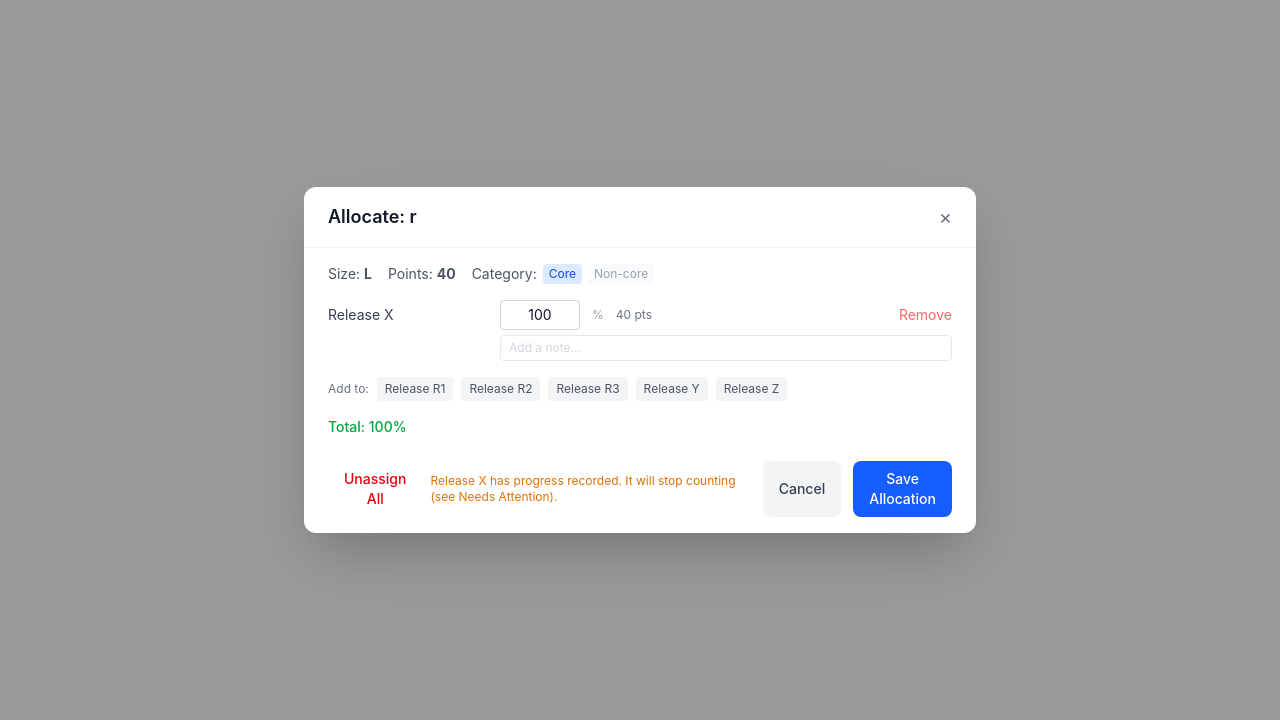
it: AllocationModal says what Save would do › says progress moves when the rib brings positive records
Expected: the text "Progress moves" is not shown
Click the button "Remove" at [925, 315], box [899,305,952,325]
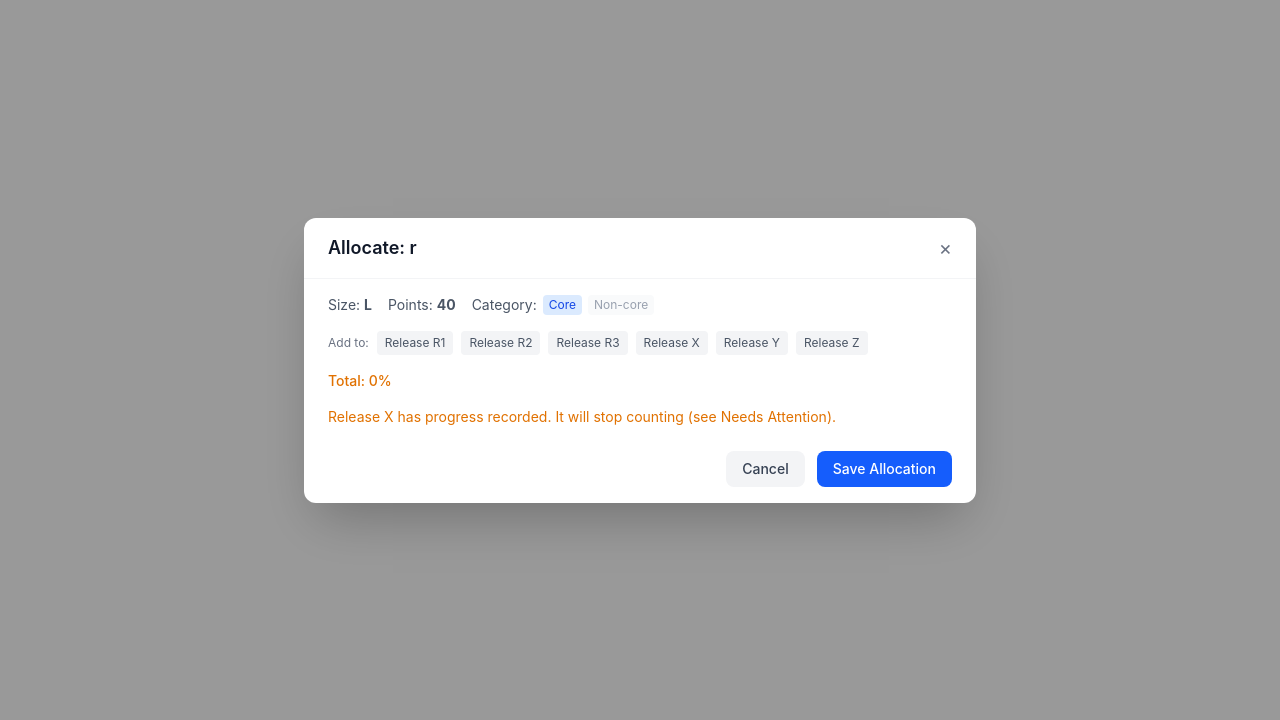
Click the button "Release Y" at [752, 342], box [716,330,788,354]
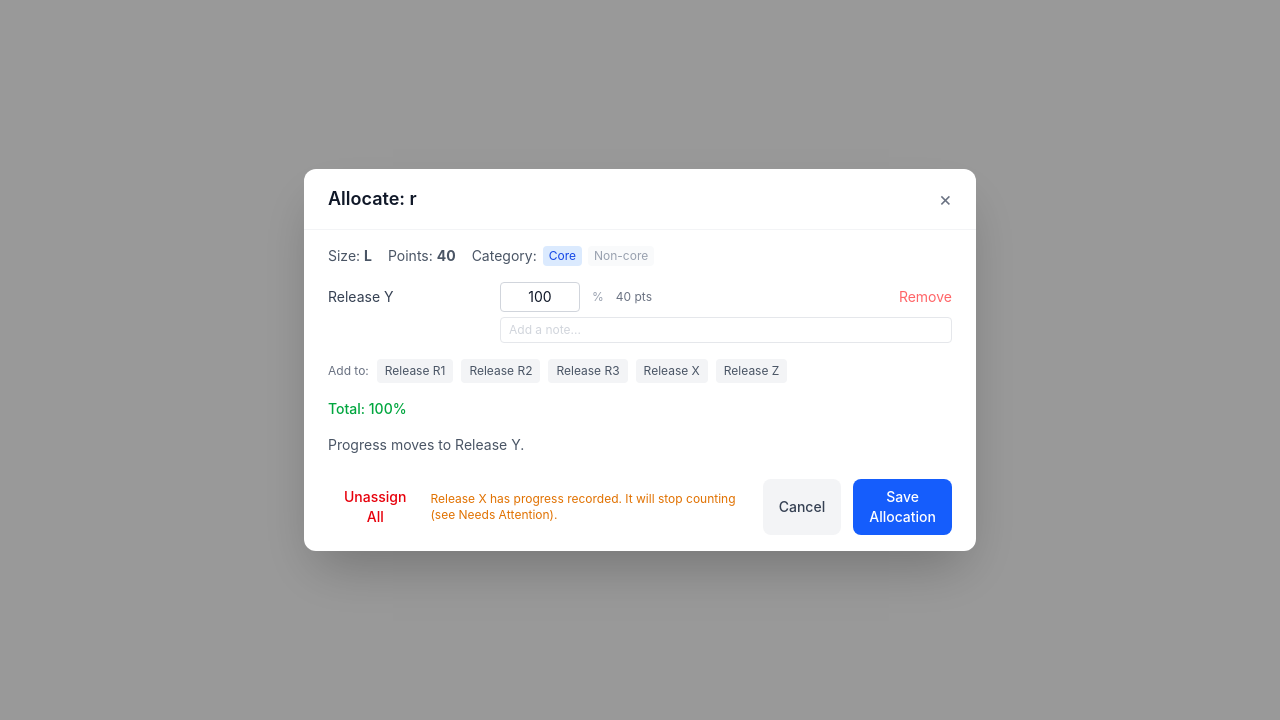
Expected: the text "Progress moves to Release Y." is shown, [328,436,524,453]
